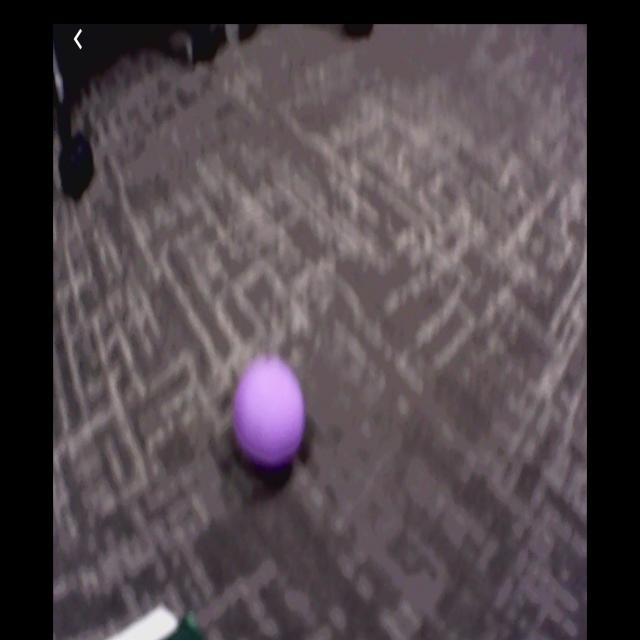ball: (233, 361, 309, 467)
